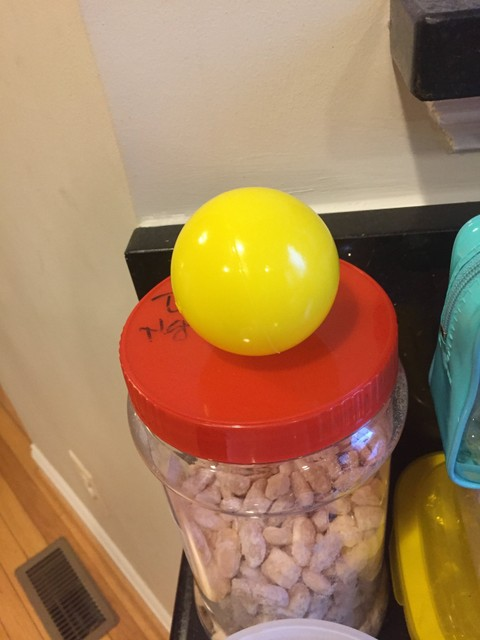ball: (170, 183, 343, 357)
